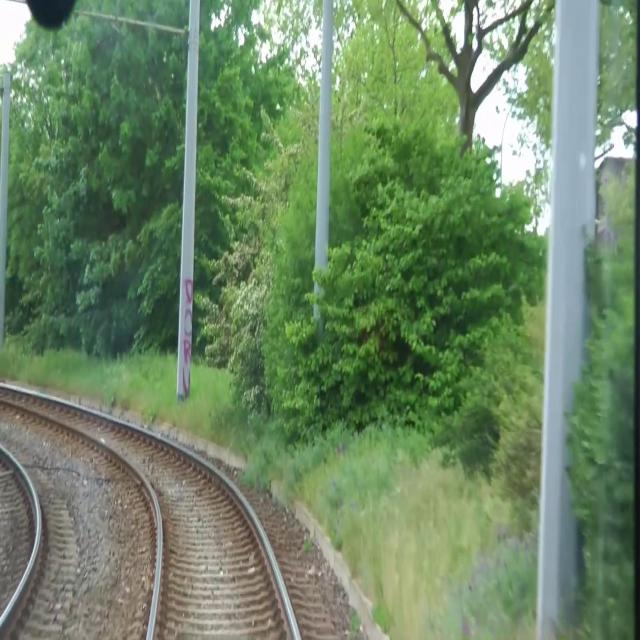rail-track: (0, 389, 295, 639)
